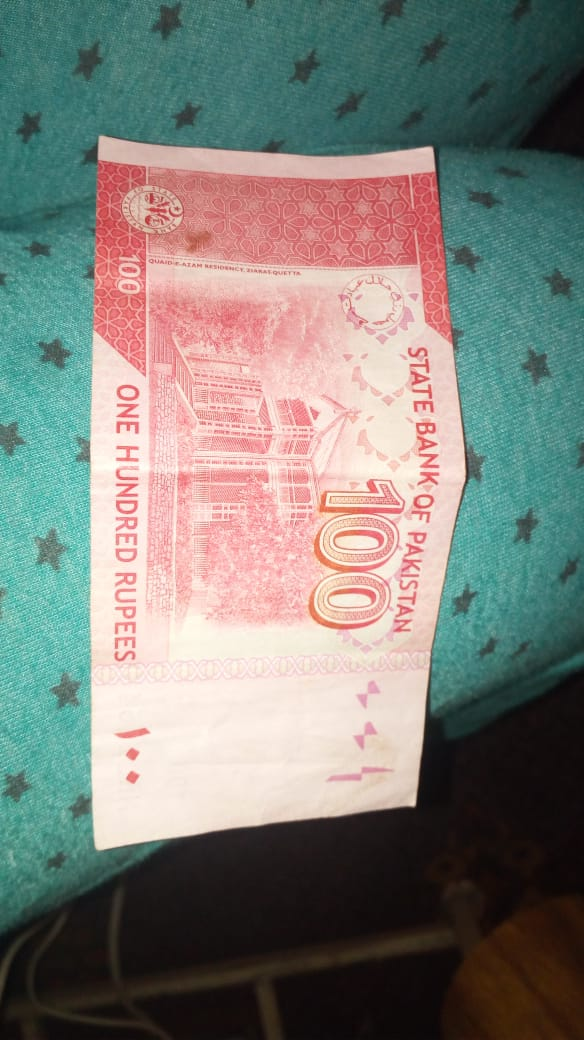100 rupee: (57, 106, 487, 885)
